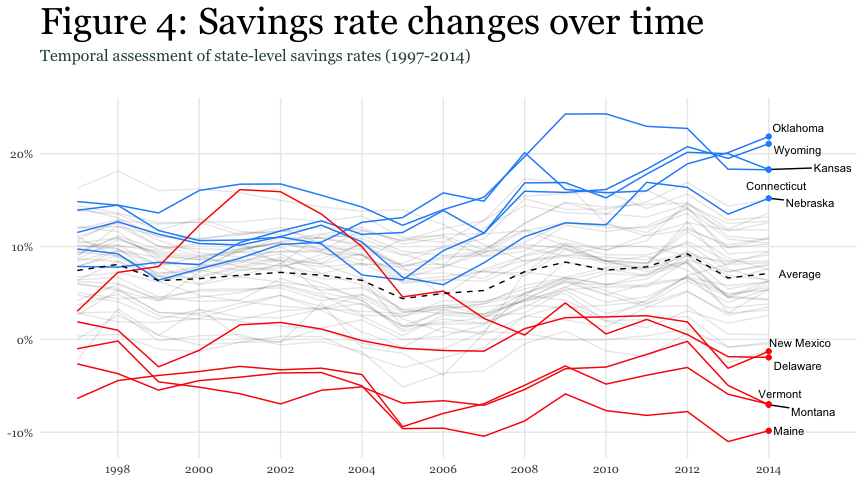

The page's visual inventory and layout, read from the dashboard file:
{"tool":"tableau","page":{"name":"Dashboard 1","canvas":[540,340],"ordinal":0},"visuals":[{"type":"worksheet","title":"Sheet 1","mark":"Automatic","rows":["TFP"],"cols":["Decade"],"box":[5,9,526,309]},{"type":"text","box":[38,324,489,11]}]}

Visuals, with their boxes on the page's 540x340 design canvas (x1, y1, x2, y2). These are canvas units, not pixel positions in the 864x480 screenshot, which may show the page scaled, cropped or inside an application window:
"Sheet 1" worksheet: x1=5, y1=9, x2=531, y2=318
text: x1=38, y1=324, x2=527, y2=335
